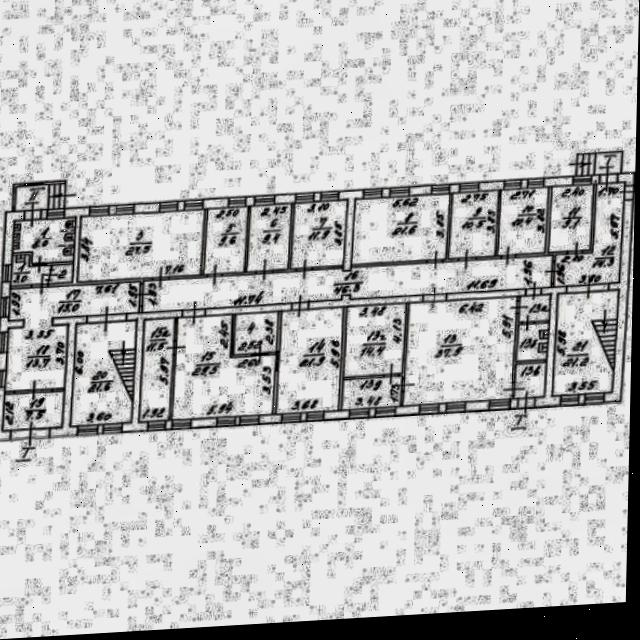room: (143, 256, 556, 312), (3, 281, 148, 391), (400, 296, 525, 405), (175, 312, 281, 424), (77, 208, 210, 280), (556, 179, 627, 291), (350, 194, 455, 265), (280, 304, 346, 416), (556, 288, 620, 399), (74, 318, 138, 428), (346, 300, 408, 379), (294, 198, 348, 271), (500, 186, 551, 258), (451, 188, 501, 261), (142, 317, 176, 422), (248, 202, 293, 273), (551, 183, 595, 255), (13, 217, 79, 264), (206, 204, 249, 276), (6, 390, 69, 429), (11, 252, 76, 285), (343, 376, 406, 410), (234, 311, 283, 354), (14, 183, 67, 210), (520, 322, 551, 363), (517, 362, 549, 400), (577, 152, 624, 176), (520, 295, 554, 322)
